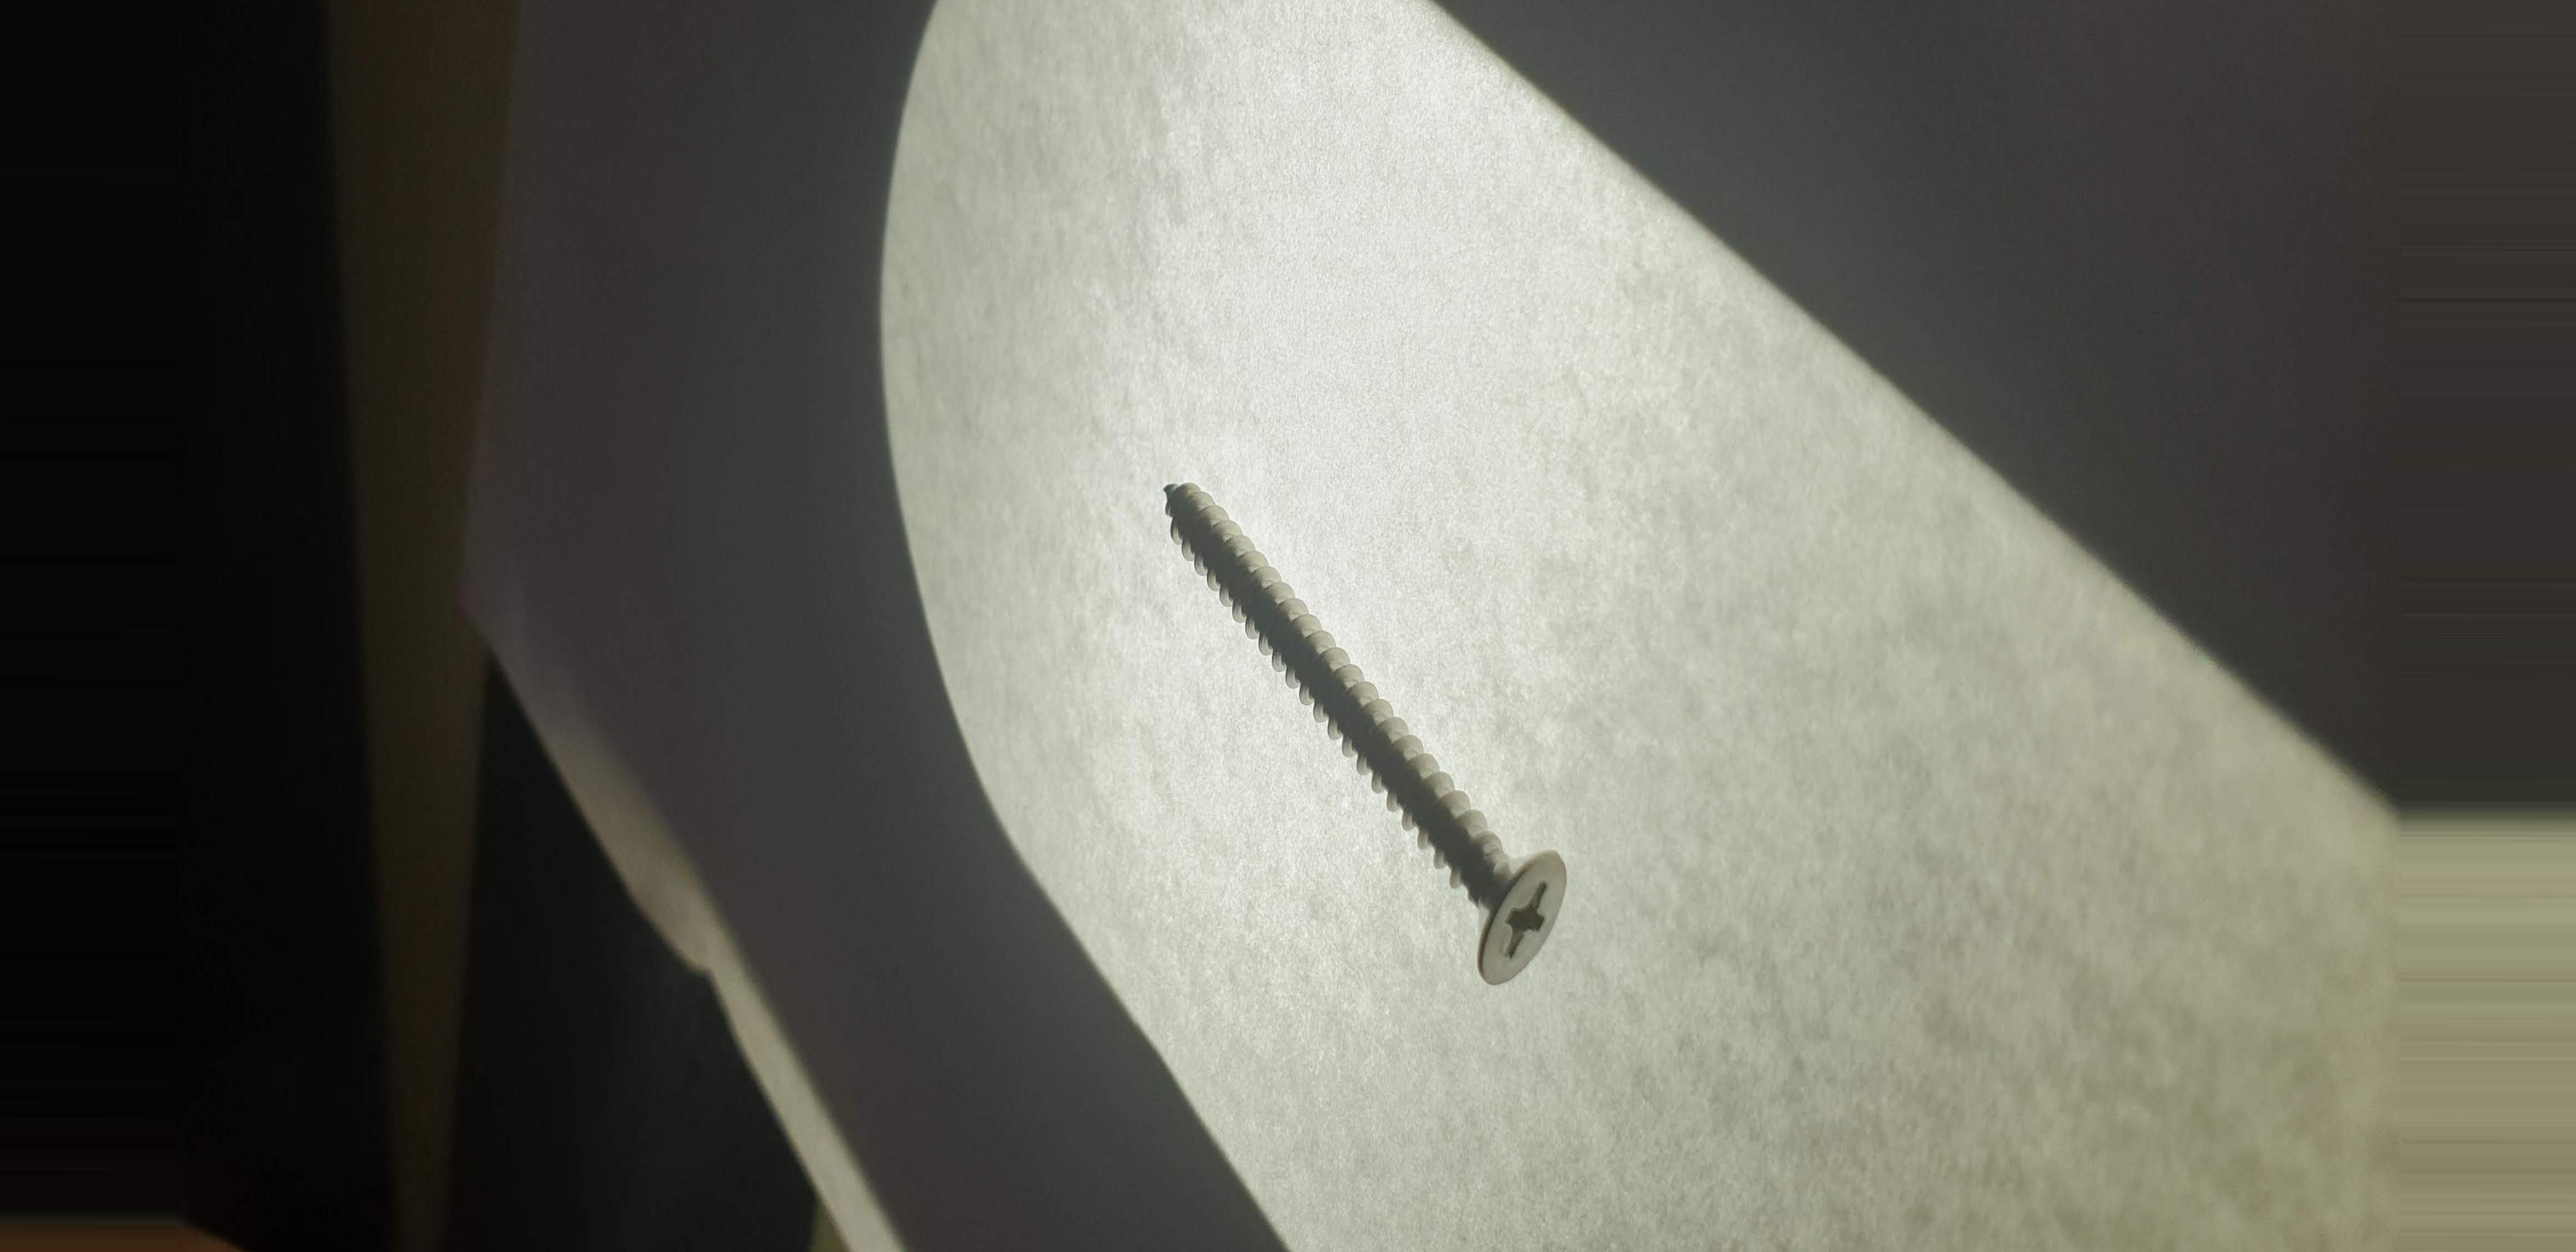S001: (1066, 389, 1689, 1042)
